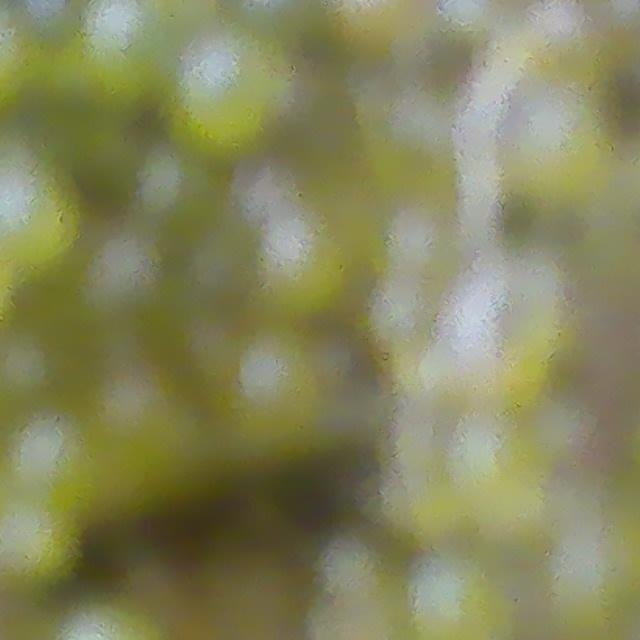SeaGrape: (80, 226, 171, 321), (0, 161, 71, 274), (133, 146, 221, 230)
